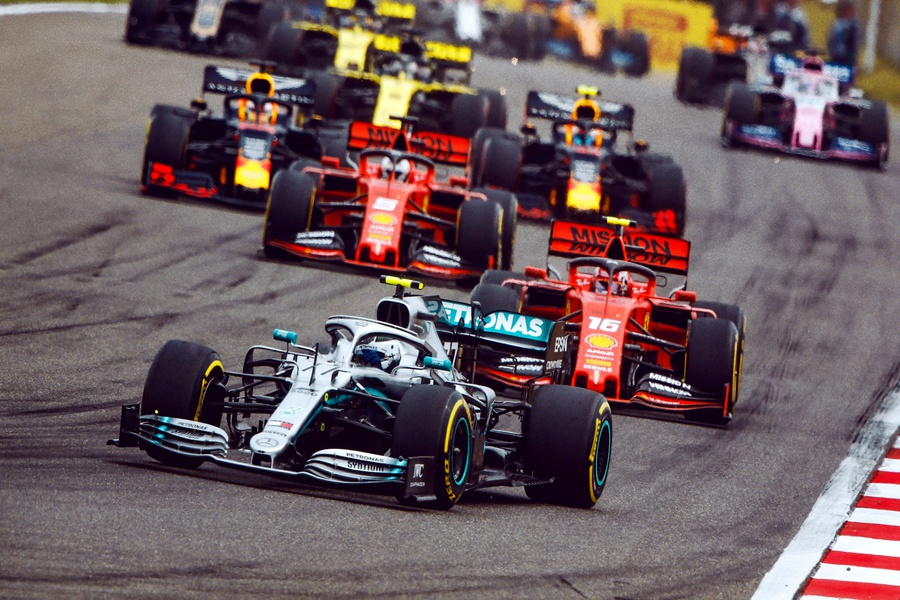Ferrari: (466, 222, 749, 424), (256, 128, 522, 269)
Mercedes: (108, 295, 630, 517)
Racing Point: (717, 52, 895, 166)
Red Bull Racing: (476, 93, 693, 234), (131, 73, 354, 198)
Renault: (290, 36, 501, 138)
